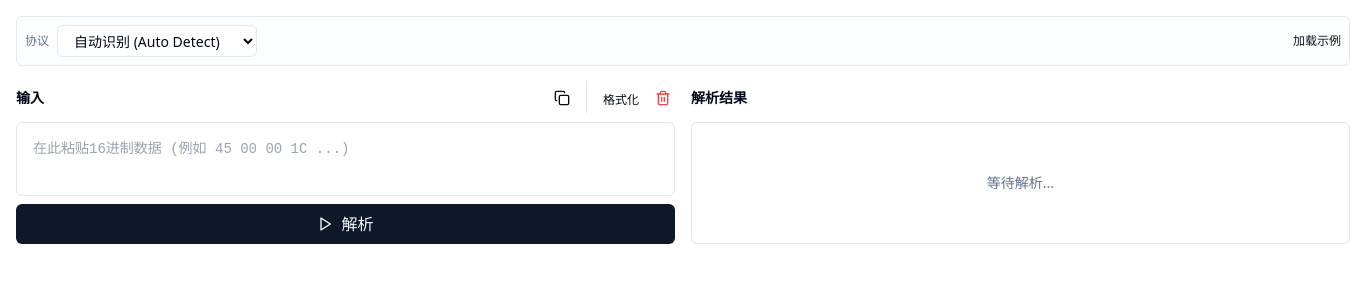
ParserView › should show error when auto-detect fails
The image size is (1366, 307).
Select "自动识别 (Auto Detect)" in the dropdown. click: (157, 41)
box: [57, 25, 257, 57]
Note: Does not match 'rule1' (starts with 12)
Type "FF FF" into the text box with placeholder "在此粘贴16进制数据 (例如 45 00 00 1C ...)". click: (346, 159)
box: [16, 122, 675, 196]
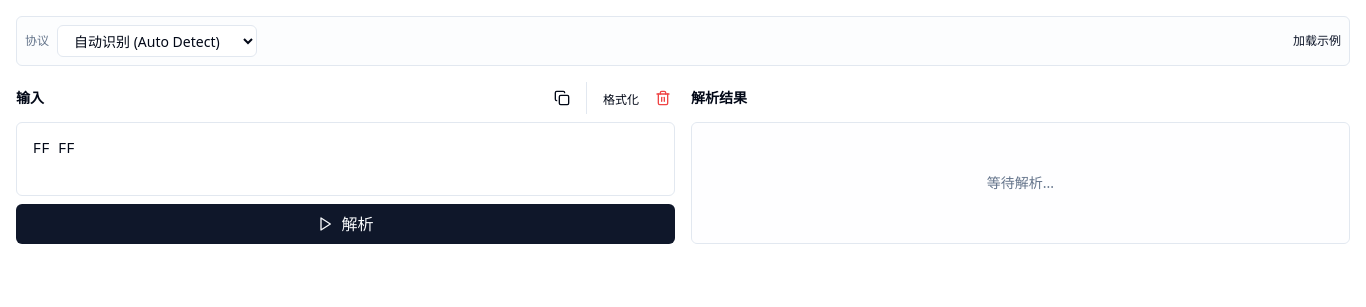
Click the button "解析". click: (346, 224)
box: [16, 204, 675, 244]
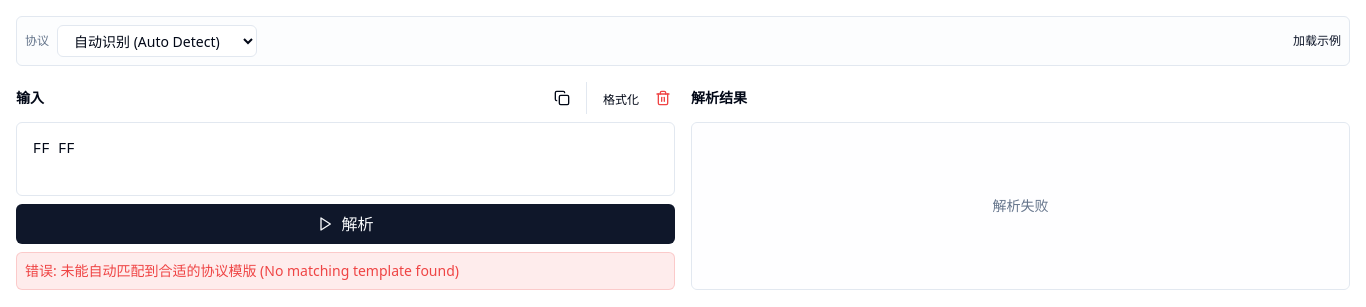
Expected: the text "错误: 未能自动匹配到合适的协议模版 (No matching template found)" is shown, [16, 252, 675, 290]
